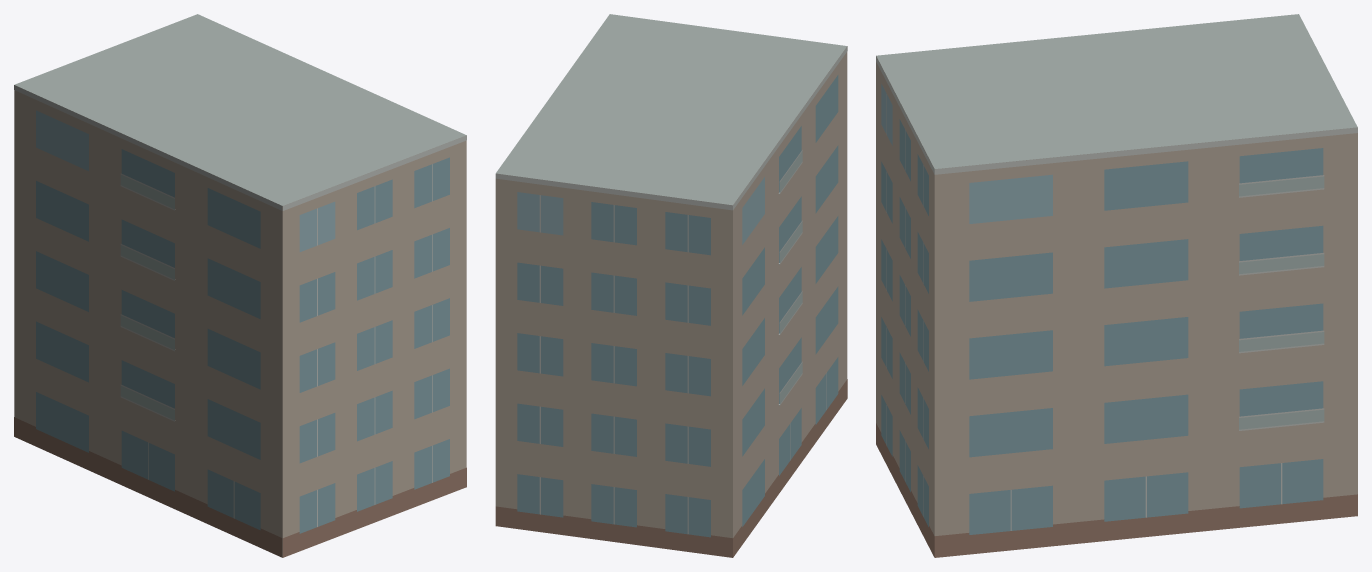
The model's file is survey-upis-32985538.glb.
3 views of the same model, side by side, from view 1: azimuth 30°, elevation 25°; view 2: azimuth 150°, elevation 25°; view 3: azimuth 270°, elevation 25° (orthographic). The views are drawn at different scales.
Visible parts, largest first — view 1: survey-upis-32985538.tmp; view 2: survey-upis-32985538.tmp; view 3: survey-upis-32985538.tmp.
Part boxes in pixels (left/top/right/bottom): survey-upis-32985538.tmp: left=14, top=14, right=466, bottom=557; survey-upis-32985538.tmp: left=495, top=14, right=847, bottom=557; survey-upis-32985538.tmp: left=876, top=14, right=1357, bottom=557.
Bounding box in the file's own units: 14.3 × 16.7 × 18.77.
